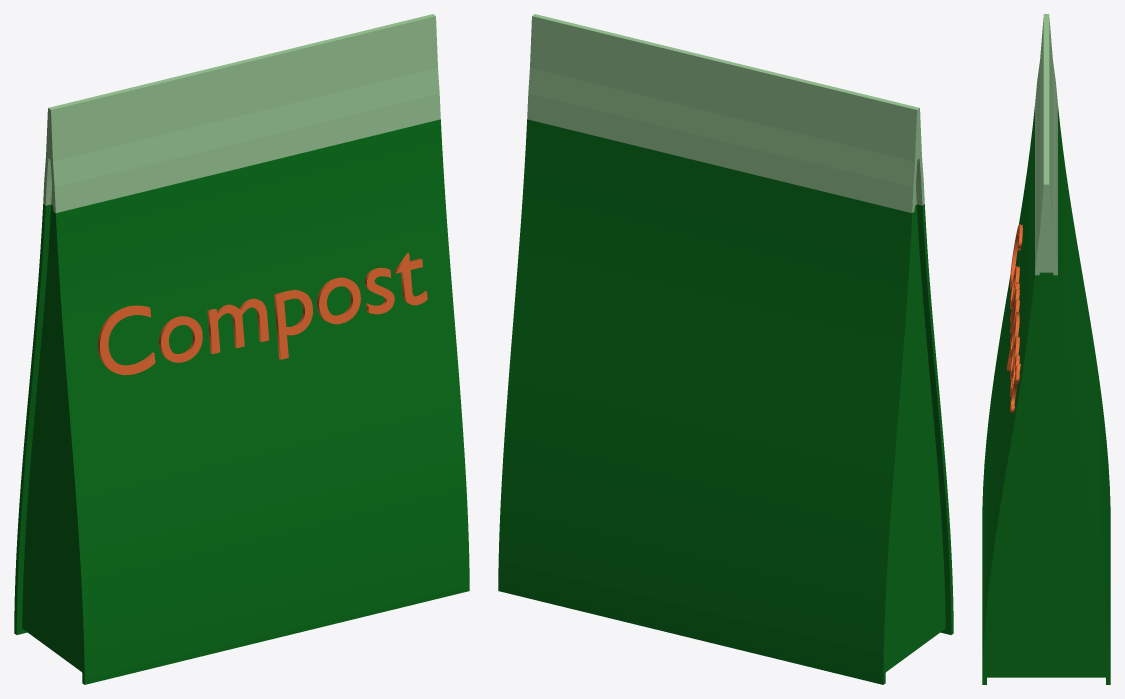
The model's file is Compost.fbx.
3 renders of one model, left to right at view 1: azimuth 30°, elevation 25°; view 2: azimuth 150°, elevation 25°; view 3: azimuth 270°, elevation 25°, orthographic. The views are drawn at different scales.
Parts seen in each view (by area): view 1: Plane; view 2: Plane; view 3: Plane.
Part boxes in pixels (x1,y1,x2,y2): Plane: (14, 14, 469, 684); Plane: (498, 14, 953, 684); Plane: (982, 14, 1110, 684).
Size of the model in its own units: 46.02 by 62.83 by 14.59.
